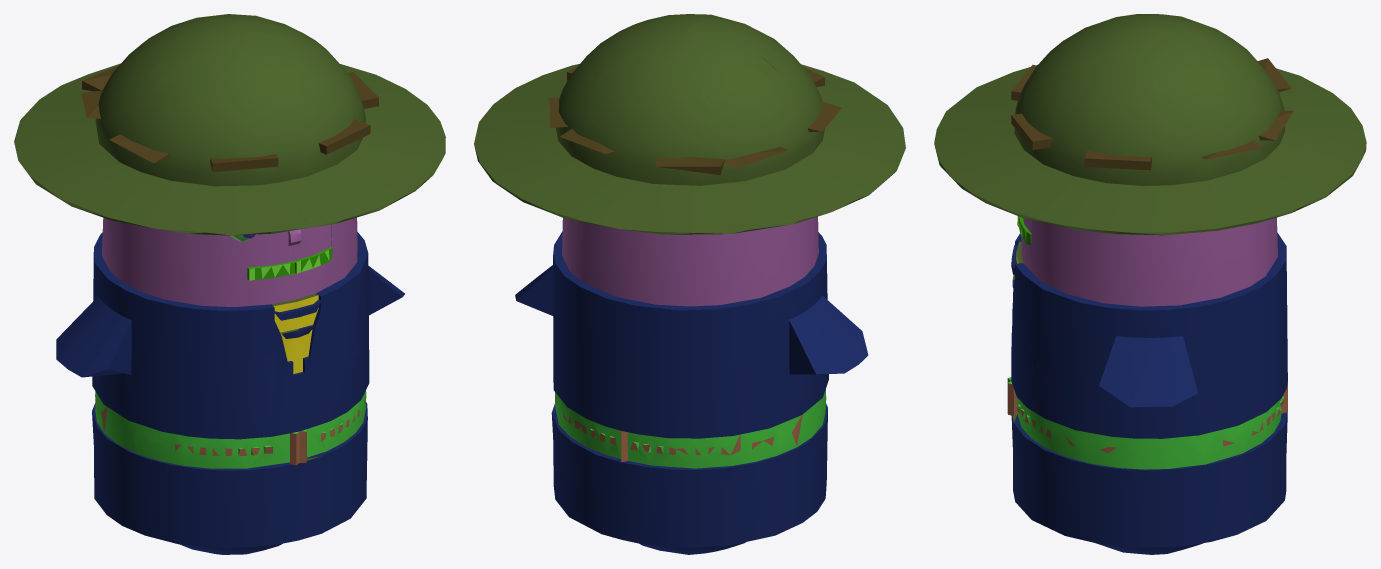
Rendered from Watcher3.fbx.
3 views of the same model, side by side, from view 1: azimuth 30°, elevation 25°; view 2: azimuth 150°, elevation 25°; view 3: azimuth 270°, elevation 25° (orthographic).
Visible parts, largest first — view 1: Sphere, Cube.002; view 2: Sphere, Cube.002; view 3: Sphere, Cube.002.
Part boxes in pixels (bbox=[...]): Sphere: bbox=[14, 14, 445, 554]; Cube.002: bbox=[81, 65, 378, 171]; Sphere: bbox=[474, 14, 905, 554]; Cube.002: bbox=[549, 62, 842, 175]; Sphere: bbox=[934, 14, 1366, 554]; Cube.002: bbox=[1011, 58, 1293, 170].
Bounding box in the file's own units: 303 × 399 × 303.
